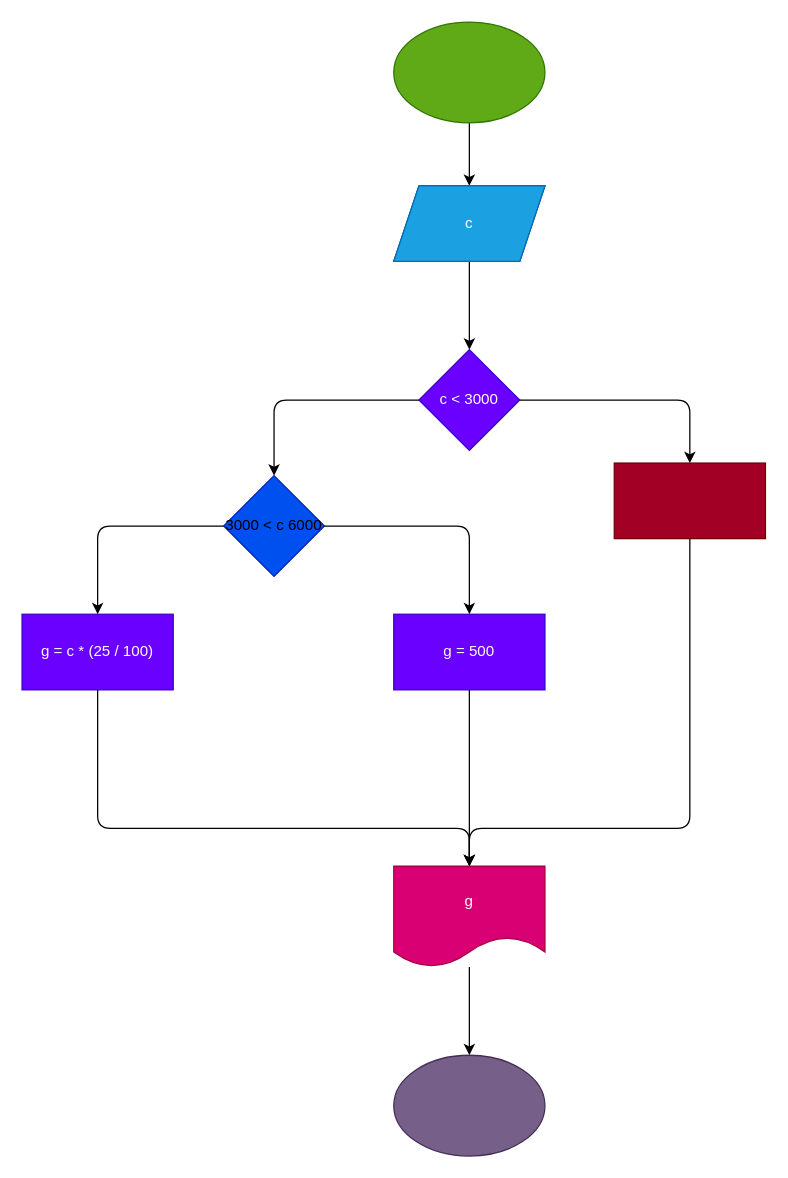
Some shapes in this 788 by 1178 pixel diagram are drawn without their labels. Here are the shapes that lost their labels. From the top down, the centre of each, then its label:
At (468,72): "Inicio".
At (689,500): "g = c * (15 / 100)".
At (468,1105): "Fin".
